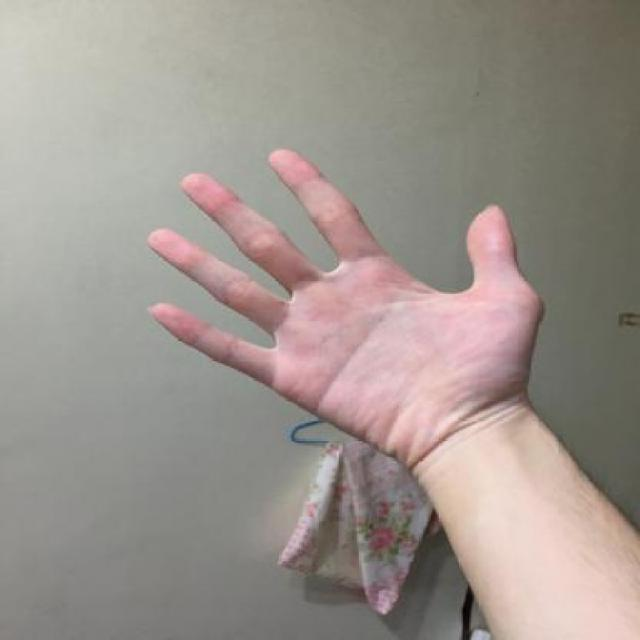hand: (138, 142, 552, 482)
